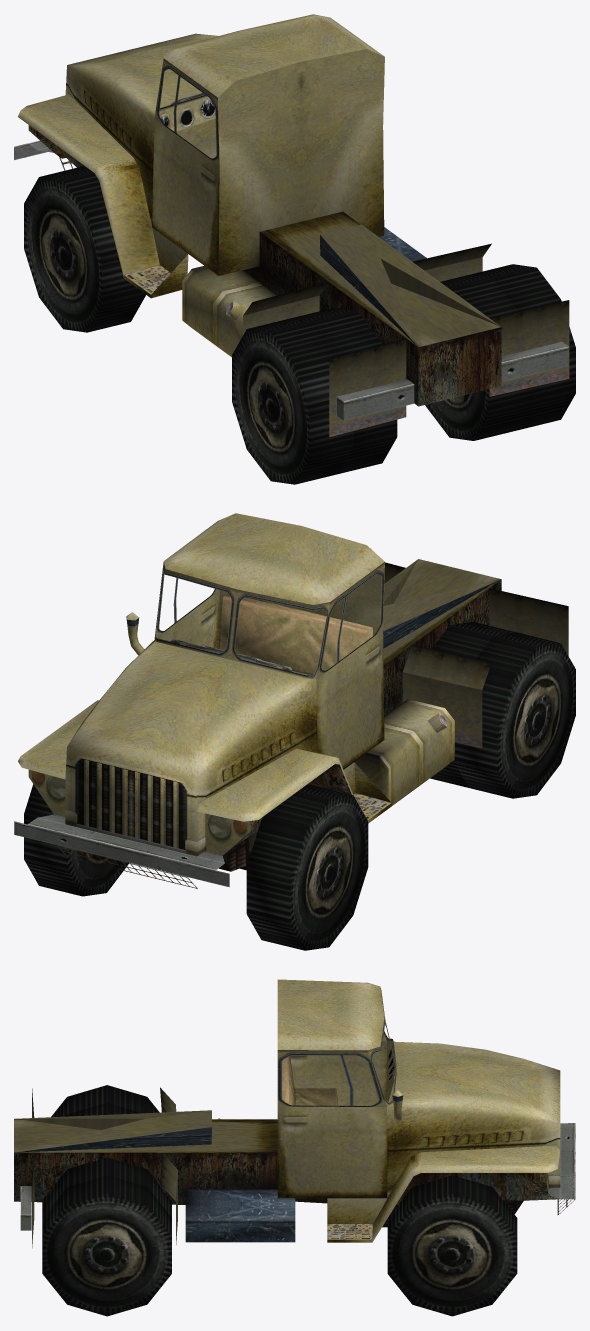
Rendered from URAL375_ARTIC.glb.
3 views of the same model, one above another, from view 1: azimuth 30°, elevation 25°; view 2: azimuth 150°, elevation 25°; view 3: azimuth 270°, elevation 25° (orthographic). The views are drawn at different scales.
Visible parts, largest first — view 1: URAL375_ARTIC; view 2: URAL375_ARTIC; view 3: URAL375_ARTIC.
Part boxes in pixels (box(x1,y1,x2,y2)): URAL375_ARTIC: box(14, 14, 575, 484); URAL375_ARTIC: box(14, 513, 575, 950); URAL375_ARTIC: box(14, 979, 575, 1316).
Bounding box in the file's own units: 2.82 × 3.16 × 6.22.
4 materials, 4 textured.
